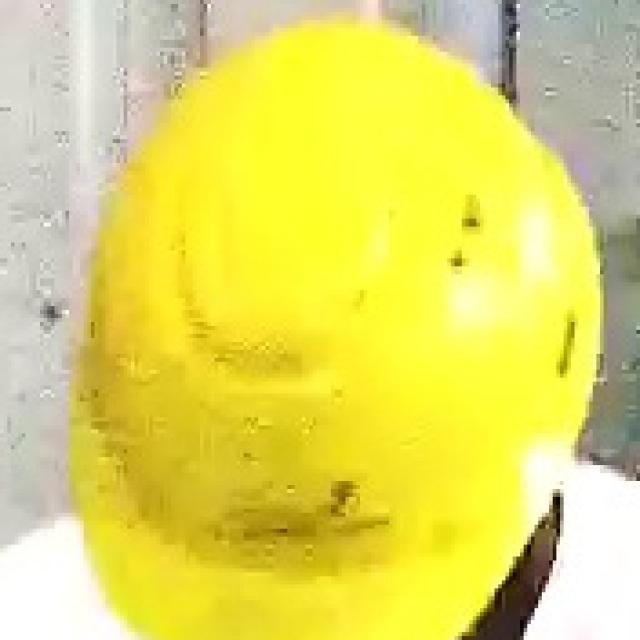yellow helmet: (69, 16, 604, 638)
